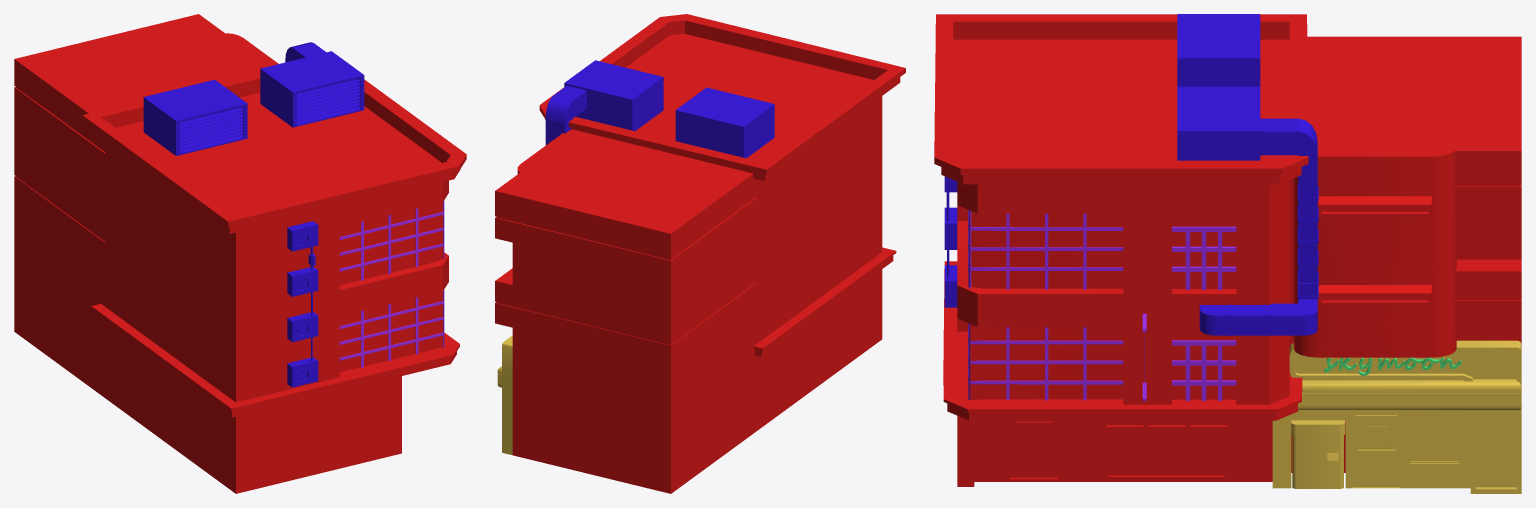
Rendered from bbuild.fbx.
The picture shows the model from 3 angles, left to right: view 1: azimuth 30°, elevation 25°; view 2: azimuth 150°, elevation 25°; view 3: azimuth 270°, elevation 25°; orthographic projection. The views are drawn at different scales.
Parts seen in each view (by area): view 1: Plane, Plane.001, Plane.002, ac, ac.001, ac.002, Plane.003, Plane.005, Plane.009, Cube.001; view 2: Plane, Plane.001, ac.001, ac, Plane.002, Cube.001, Plane.009, Plane.010; view 3: Plane, Plane.001, Plane.009, Plane.010, Plane.002, Cube.001, Cube, ac, ac.001, Plane.011, Plane.013, Plane.015 (+7 smaller).
Boxes of the visible parts, bbox=[...] form: Plane: bbox=[14, 14, 448, 493]; Plane.001: bbox=[82, 71, 466, 233]; Plane.002: bbox=[91, 304, 459, 417]; ac: bbox=[260, 51, 364, 127]; ac.001: bbox=[143, 79, 247, 155]; ac.002: bbox=[287, 221, 318, 387]; Plane.003: bbox=[339, 200, 444, 280]; Plane.005: bbox=[339, 290, 444, 367]; Plane.009: bbox=[208, 33, 278, 72]; Cube.001: bbox=[285, 42, 326, 62]; Plane: bbox=[495, 96, 882, 493]; Plane.001: bbox=[539, 14, 905, 181]; ac.001: bbox=[675, 87, 774, 158]; ac: bbox=[564, 60, 663, 130]; Plane.002: bbox=[753, 247, 896, 356]; Cube.001: bbox=[545, 85, 586, 145]; Plane.009: bbox=[517, 129, 594, 173]; Plane.010: bbox=[502, 335, 512, 455]; Plane: bbox=[957, 36, 1521, 486]; Plane.001: bbox=[934, 14, 1308, 184]; Plane.009: bbox=[1293, 139, 1456, 357]; Plane.010: bbox=[1289, 340, 1521, 493]; Plane.002: bbox=[943, 261, 1302, 420]; Cube.001: bbox=[1199, 118, 1318, 335]; Cube: bbox=[1298, 379, 1521, 410]; ac: bbox=[1177, 86, 1260, 160]; ac.001: bbox=[1177, 14, 1260, 86]; Plane.011: bbox=[1272, 410, 1470, 488]; Plane.013: bbox=[1352, 413, 1400, 487]; Plane.015: bbox=[1291, 420, 1345, 488].
Size of the model in its own units: 308 by 340 by 469.
